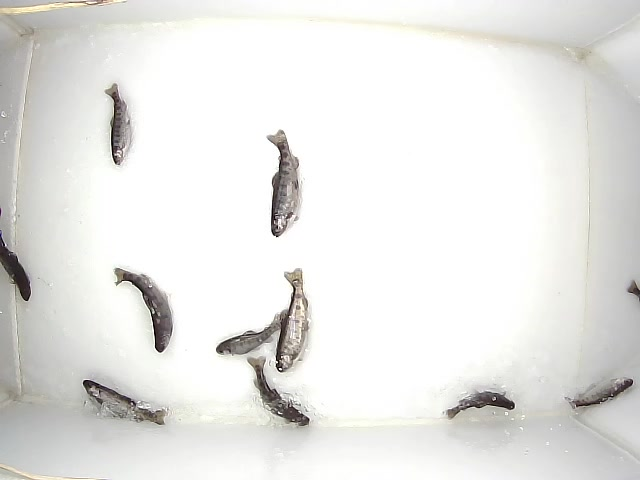fish: (114, 268, 173, 353), (247, 356, 310, 427), (82, 380, 169, 426), (266, 129, 302, 237), (276, 268, 310, 373), (216, 312, 289, 356), (104, 83, 132, 165), (565, 377, 634, 410), (1, 229, 31, 302), (446, 391, 515, 420)
